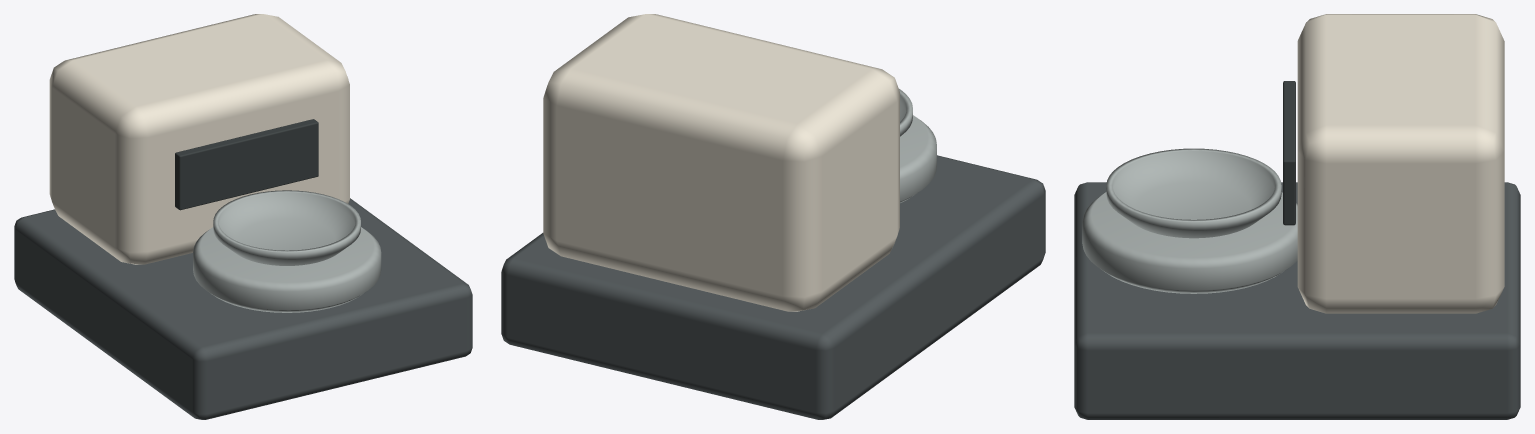
Rendered from coffee-roastery-and-cupping-room-coffee-roastery-and-c-f7a9a8c9__32184.glb.
3 views of the same model, side by side, from view 1: azimuth 30°, elevation 25°; view 2: azimuth 150°, elevation 25°; view 3: azimuth 270°, elevation 25° (orthographic). The views are drawn at different scales.
Parts seen in each view (by area): view 1: coffee-roastery-and-cupping-room-moisture-analyzer; view 2: coffee-roastery-and-cupping-room-moisture-analyzer; view 3: coffee-roastery-and-cupping-room-moisture-analyzer.
Boxes of the visible parts, x1=… form: coffee-roastery-and-cupping-room-moisture-analyzer: x1=14, y1=14, x2=472, y2=419; coffee-roastery-and-cupping-room-moisture-analyzer: x1=501, y1=14, x2=1045, y2=419; coffee-roastery-and-cupping-room-moisture-analyzer: x1=1074, y1=14, x2=1520, y2=419.
Size of the model in its own units: 0.24 by 0.19 by 0.28.
